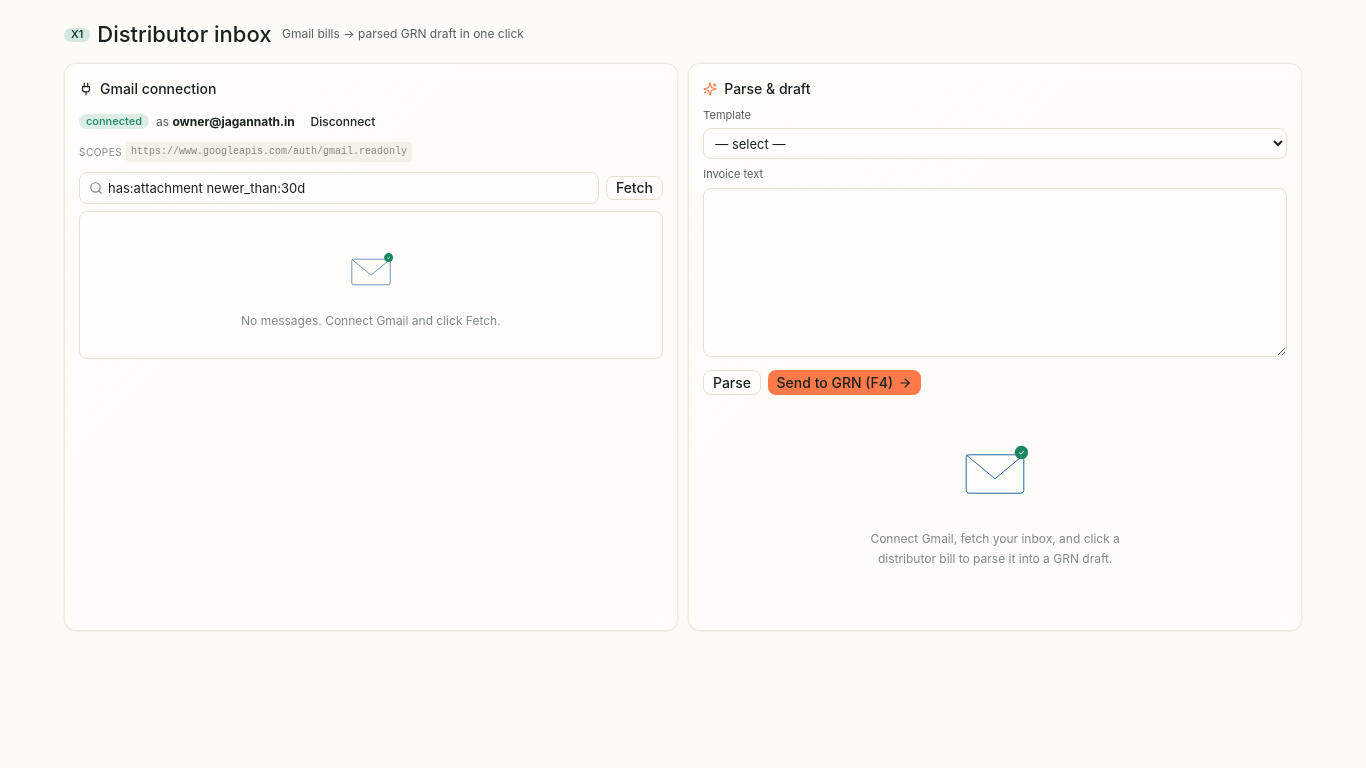
GmailInboxScreen — G07 X1 moat surface › Parse without selecting a template surfaces inline error
The width and height of the screenshot is (1366, 768).
Check: the element with test id "gmail-status-connected" is shown, box [156, 112, 295, 131]
# Type sample text directly (no message needed).
Type "Some text" into the text box with test id "gmail-sample" at (995, 272), box [703, 188, 1287, 357]
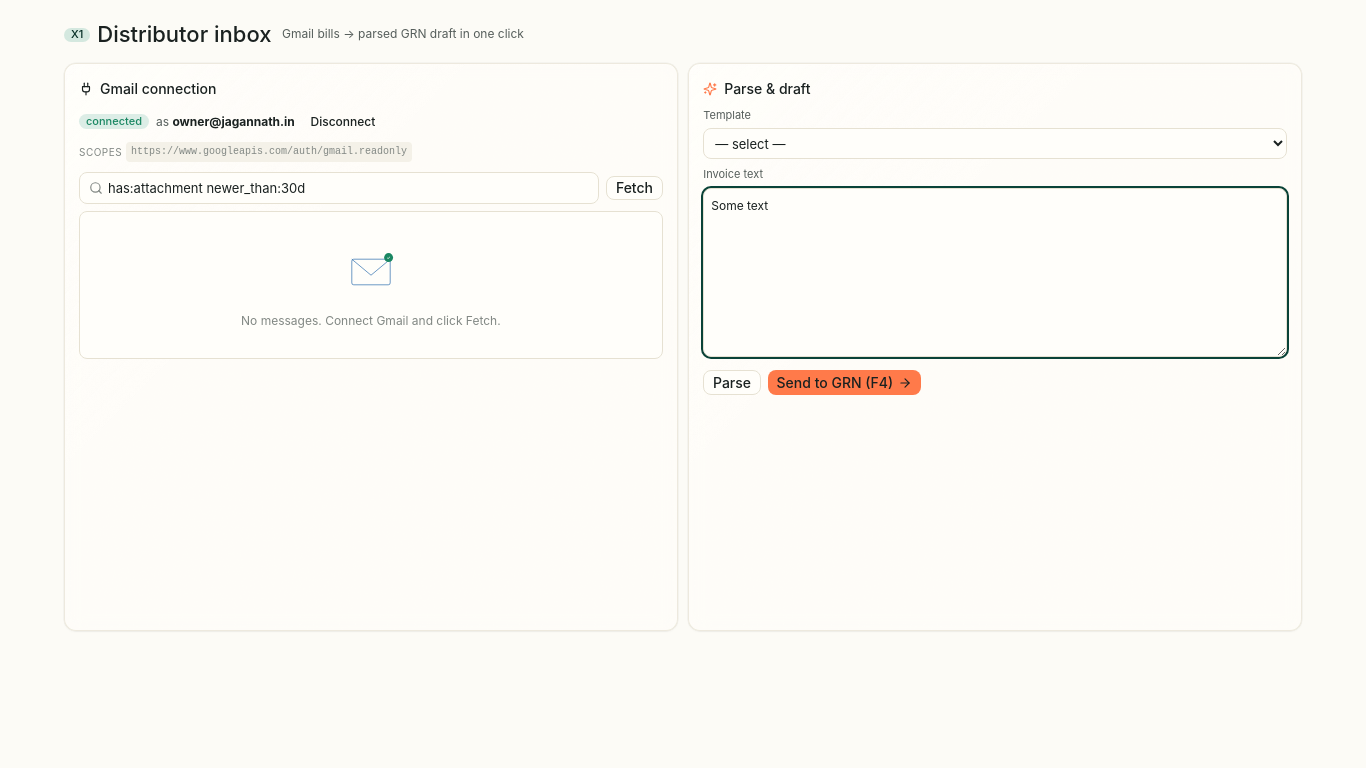
Click the button with test id "gmail-parse" at (732, 383), box [703, 370, 761, 395]
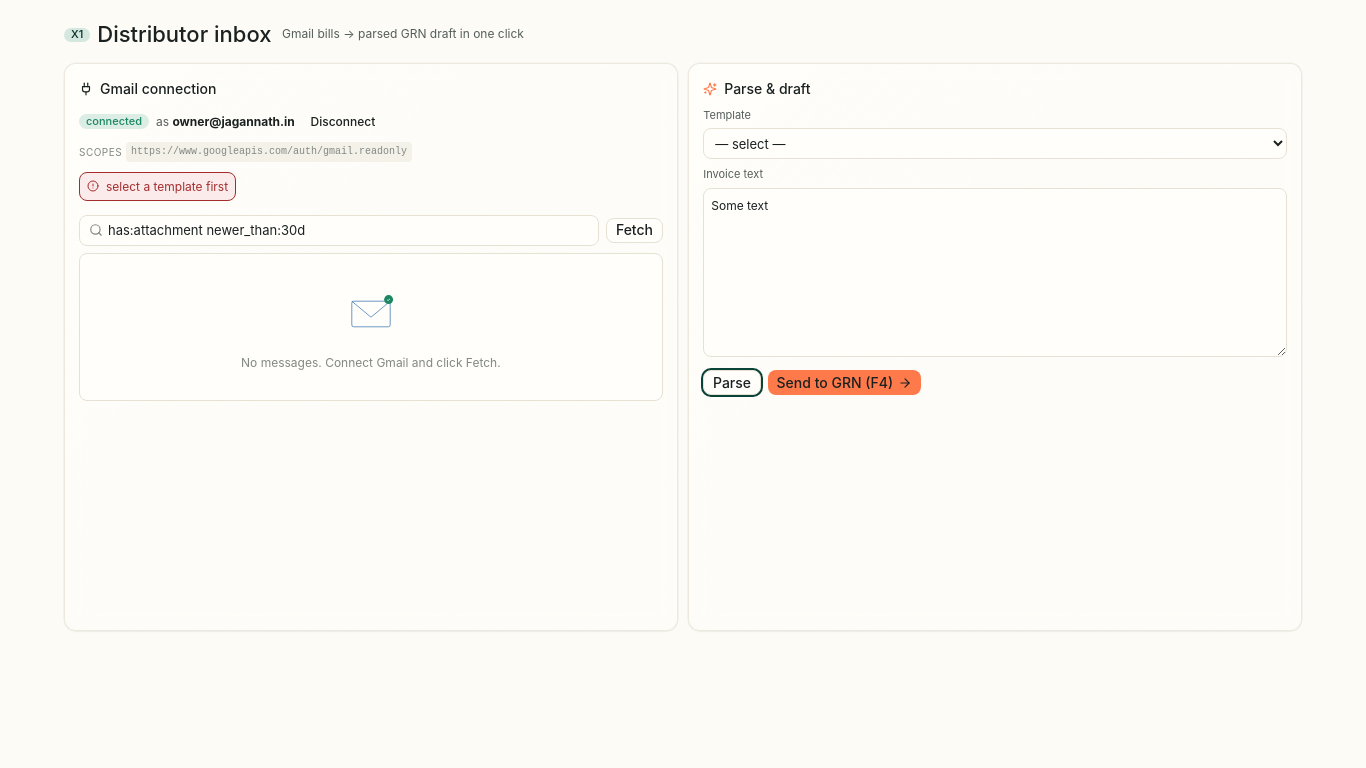
Check: the element with test id "gmail-error" shows "select a template", box [106, 179, 228, 194]
